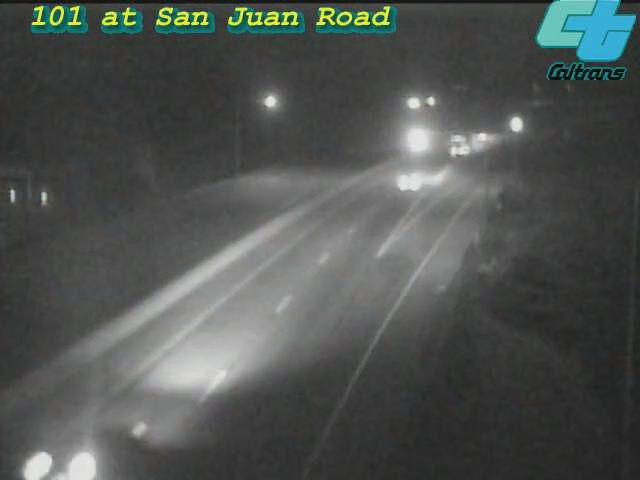vehicle: (45, 396, 155, 480), (373, 139, 453, 219), (397, 113, 447, 163), (491, 100, 541, 150), (458, 113, 508, 163), (442, 122, 492, 172)
